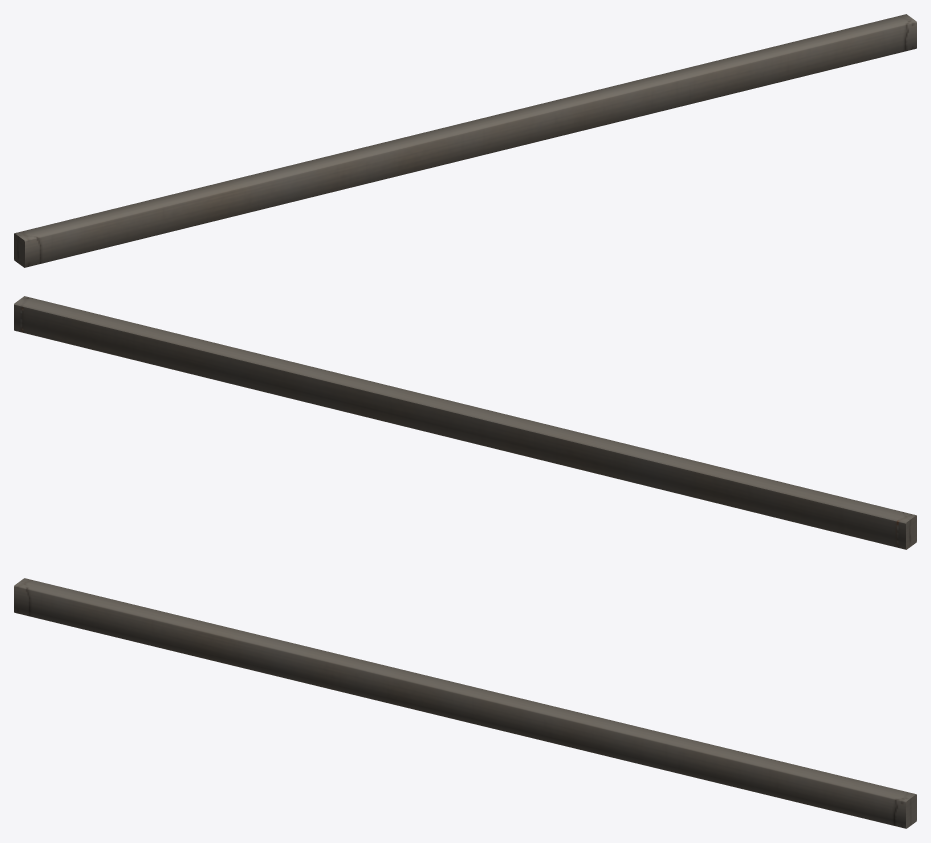
Rendered from SM_SiegeGate_Bar.fbx.
3 renders of one model, top to bottom at view 1: azimuth 30°, elevation 25°; view 2: azimuth 150°, elevation 25°; view 3: azimuth 330°, elevation 25°, orthographic.
Parts seen in each view (by area): view 1: SM_SiegeGate_Bar; view 2: SM_SiegeGate_Bar; view 3: SM_SiegeGate_Bar.
Part boxes in pixels (x1,y1,x2,y2): SM_SiegeGate_Bar: [14, 14, 916, 267]; SM_SiegeGate_Bar: [14, 296, 916, 549]; SM_SiegeGate_Bar: [14, 578, 916, 828].
Bounding box in the file's own units: 612 × 13 × 19.
